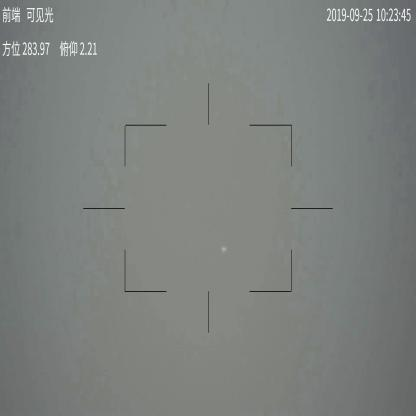uav: (221, 245, 228, 254)
